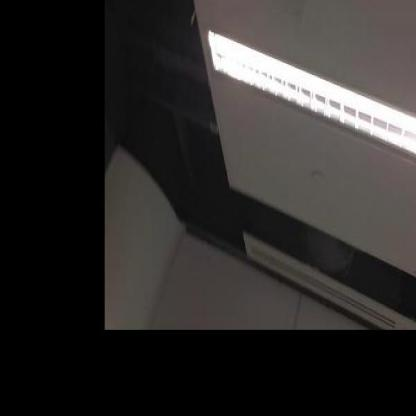light_on: (197, 22, 416, 170)
